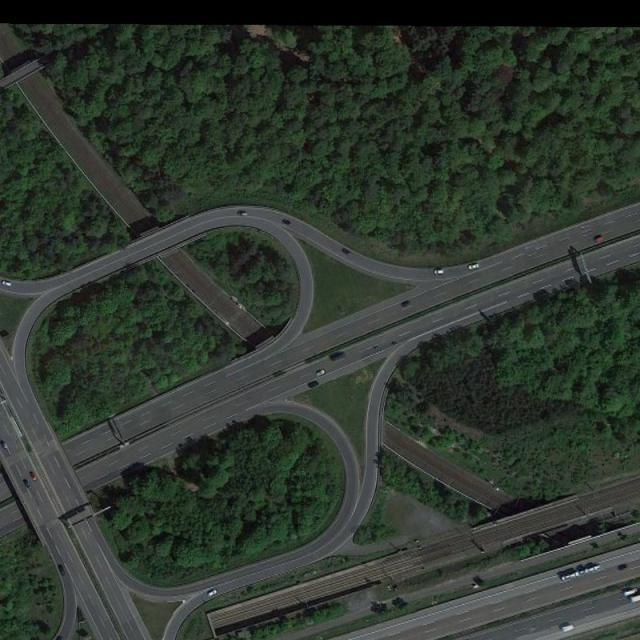vehicle: (330, 351, 348, 363), (623, 588, 640, 598), (341, 246, 352, 257), (308, 379, 320, 389), (468, 262, 481, 271), (629, 594, 640, 604), (315, 368, 327, 377), (28, 471, 38, 481), (23, 478, 32, 489), (58, 564, 66, 576), (562, 624, 574, 632), (402, 300, 412, 309), (207, 588, 218, 596), (434, 269, 446, 276), (594, 236, 603, 245), (281, 218, 292, 225), (1, 280, 13, 286), (1, 440, 8, 450), (238, 211, 249, 216), (57, 637, 63, 640)
